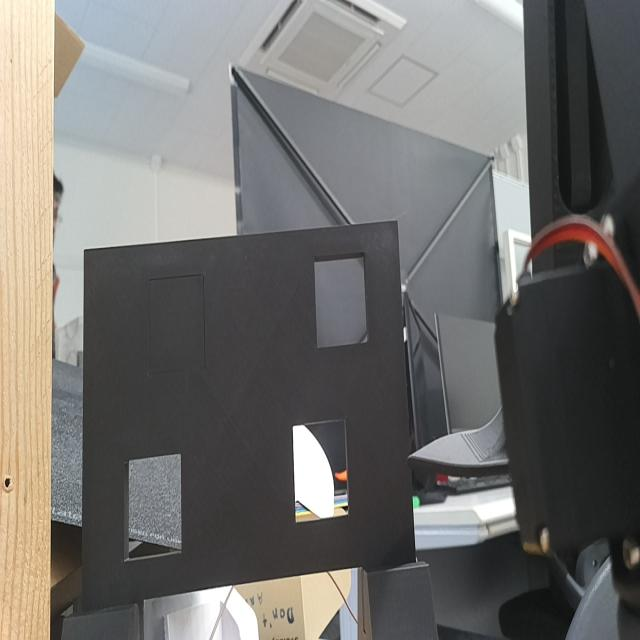Obstacle: (124, 456, 183, 559), (292, 420, 350, 521), (314, 252, 369, 347)
Wall: (82, 221, 415, 610)
